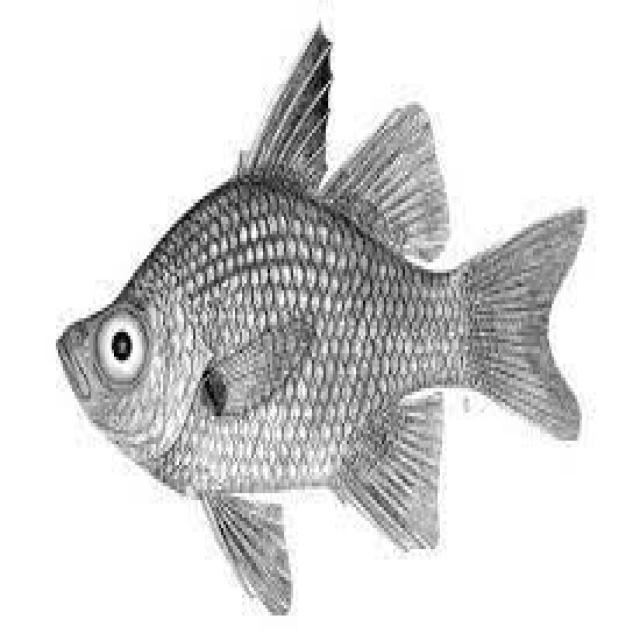Glass-Perchlet: (45, 10, 613, 610)
